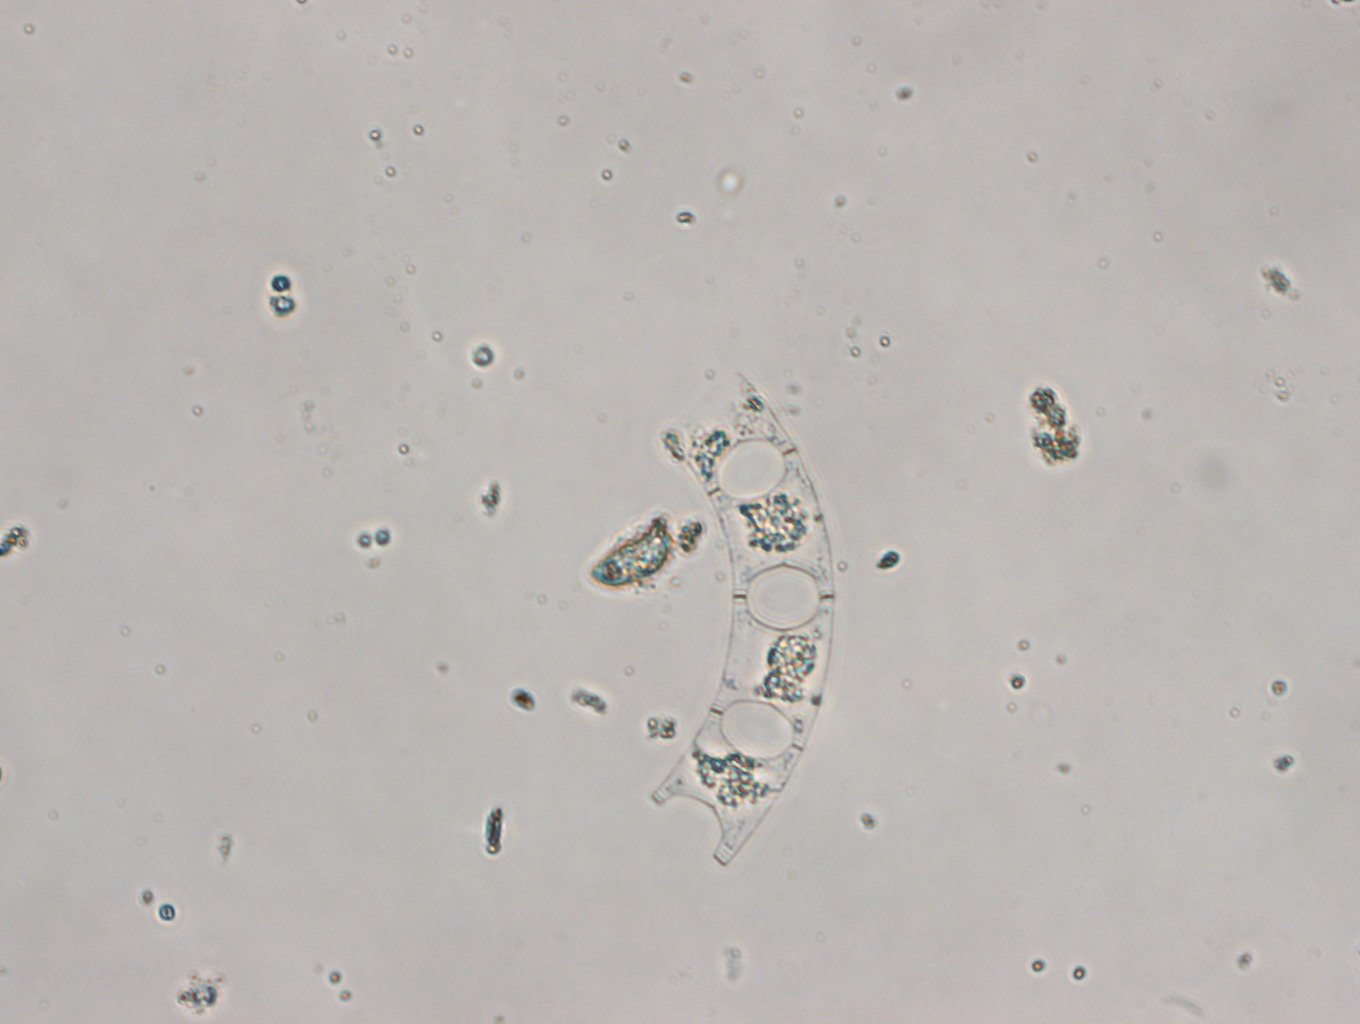eucampia: (634, 376, 840, 881)
